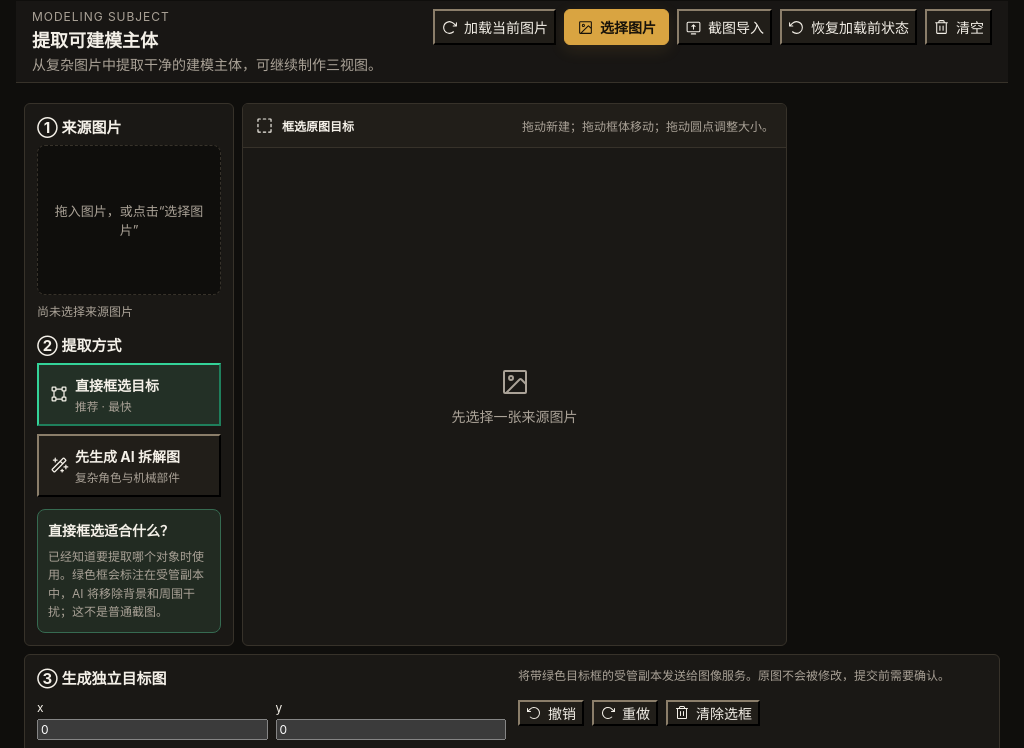
it: TargetExtractionWorkspace › opens the native image chooser and imports the selected source
The width and height of the screenshot is (1024, 748).
Click the button "选择图片": (616, 27) [564, 9, 669, 45]
(page scrolled)
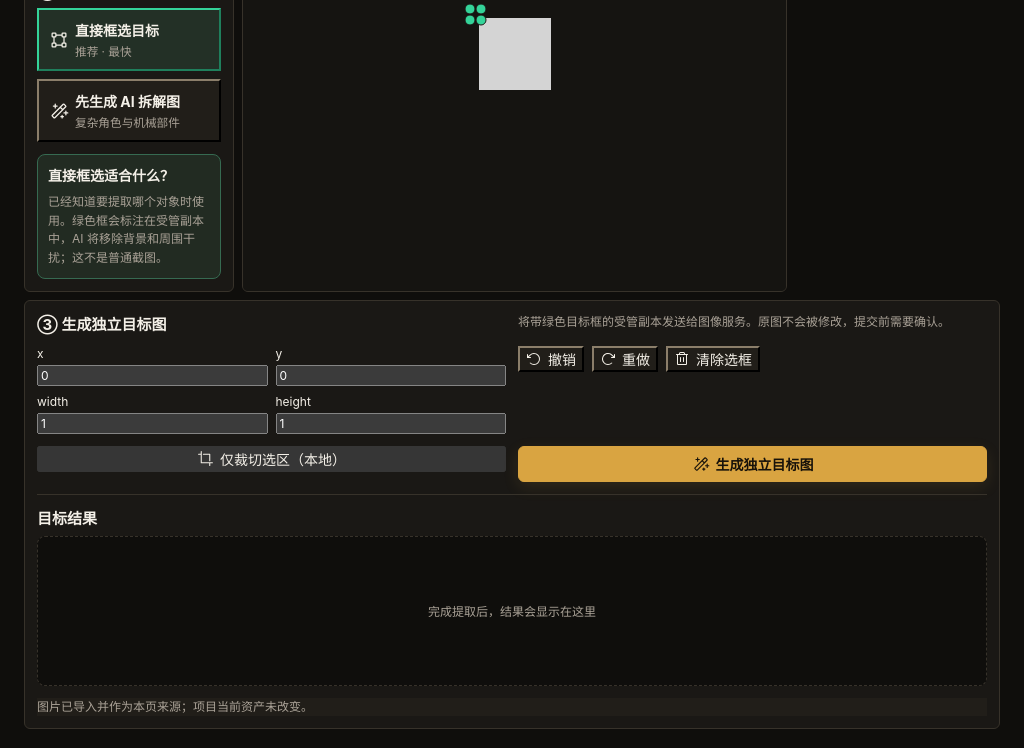
Result: the text "图片已导入并作为本页来源；项目当前资产未改变。" is shown at [37, 698, 987, 716]
